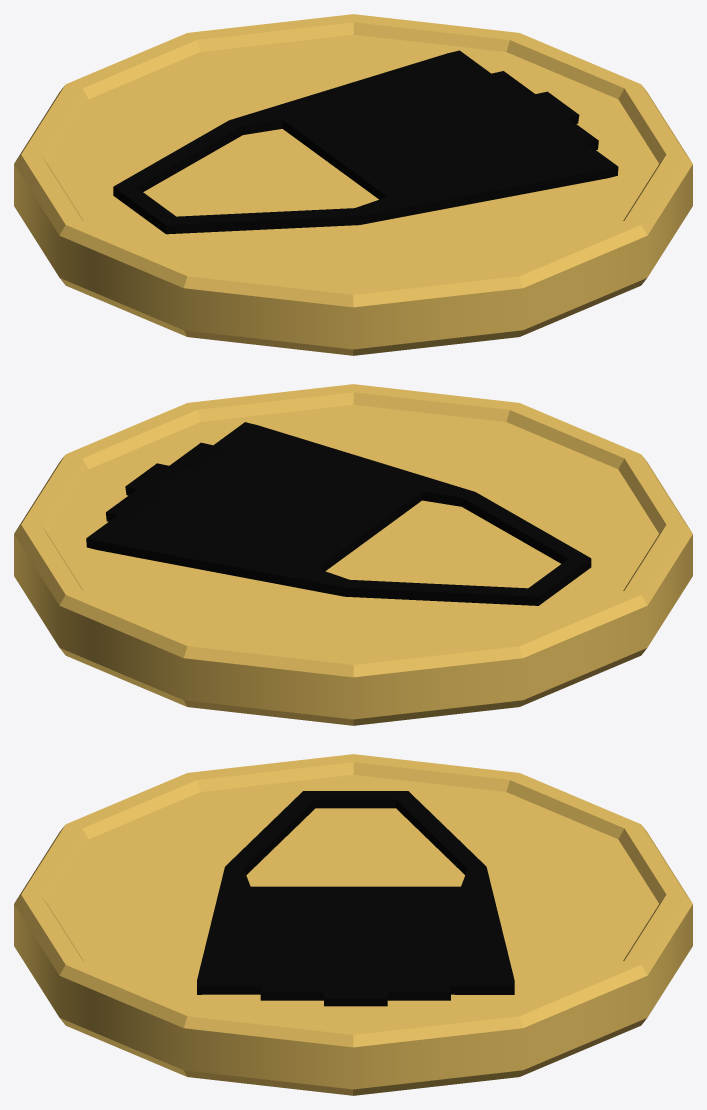
Rendered from ob_CoinFace.FBX.
3 renders of one model, top to bottom at view 1: azimuth 30°, elevation 25°; view 2: azimuth 150°, elevation 25°; view 3: azimuth 270°, elevation 25°, orthographic.
Visible parts, largest first — view 1: Cylinder002; view 2: Cylinder002; view 3: Cylinder002.
Boxes of the visible parts, left/top/right/bottom form: Cylinder002: left=14, top=14, right=692, bottom=355; Cylinder002: left=14, top=384, right=692, bottom=725; Cylinder002: left=14, top=754, right=692, bottom=1095.
Size of the model in its own units: 123 by 16.54 by 123.
